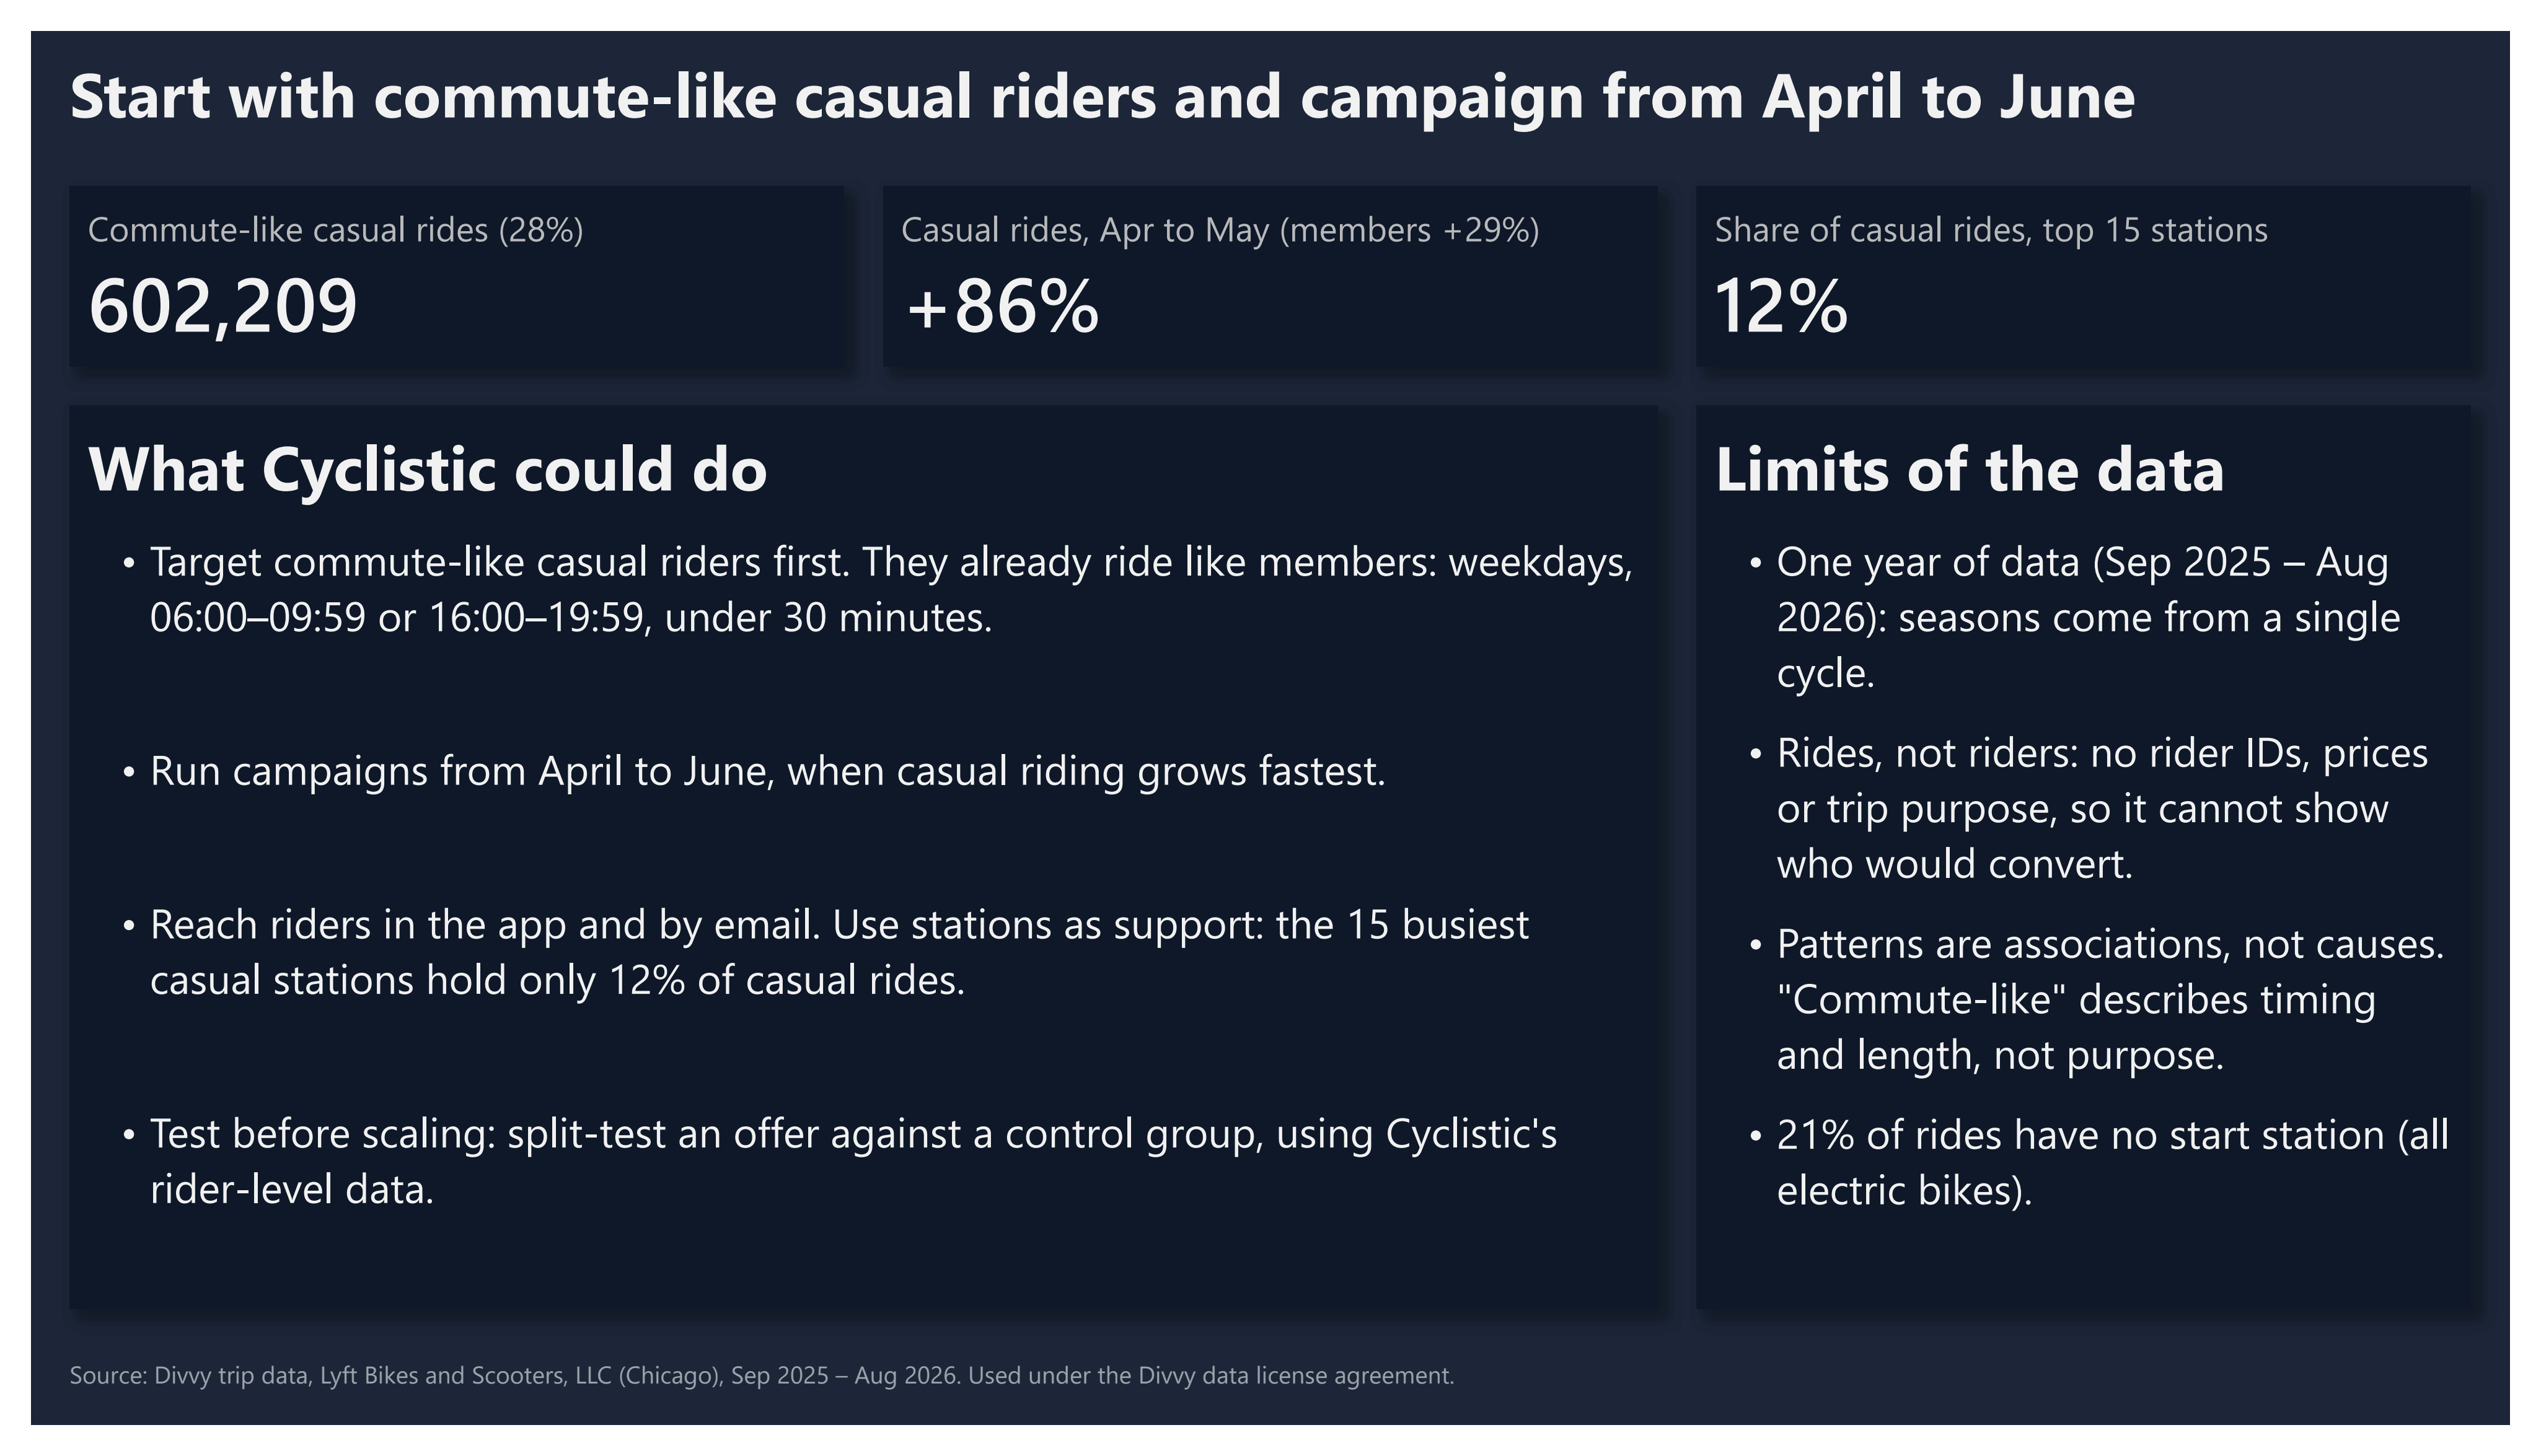

What the dashboard file says about the page in this screenshot:
{"tool":"powerbi","page":{"name":"What this means","canvas":[1920,1080],"ordinal":3},"visuals":[{"type":"textbox","box":[30,15,1860,75],"z":0},{"type":"textbox","box":[30,1028,1860,42],"z":1000},{"type":"textbox","box":[30,120,600,140],"z":2000},{"type":"textbox","box":[660,120,600,140],"z":3000},{"type":"textbox","box":[1290,120,600,140],"z":4000},{"type":"textbox","box":[30,290,1230,700],"z":5000},{"type":"textbox","box":[1290,290,600,700],"z":6000}]}

Visuals, with their boxes on the page's 1920x1080 design canvas (x1, y1, x2, y2). These are canvas units, not pixel positions in the 2541x1456 screenshot, which may show the page scaled, cropped or inside an application window:
textbox: pyautogui.locateOnScreen(30, 15, 1890, 90)
textbox: pyautogui.locateOnScreen(30, 1028, 1890, 1070)
textbox: pyautogui.locateOnScreen(30, 120, 630, 260)
textbox: pyautogui.locateOnScreen(660, 120, 1260, 260)
textbox: pyautogui.locateOnScreen(1290, 120, 1890, 260)
textbox: pyautogui.locateOnScreen(30, 290, 1260, 990)
textbox: pyautogui.locateOnScreen(1290, 290, 1890, 990)
